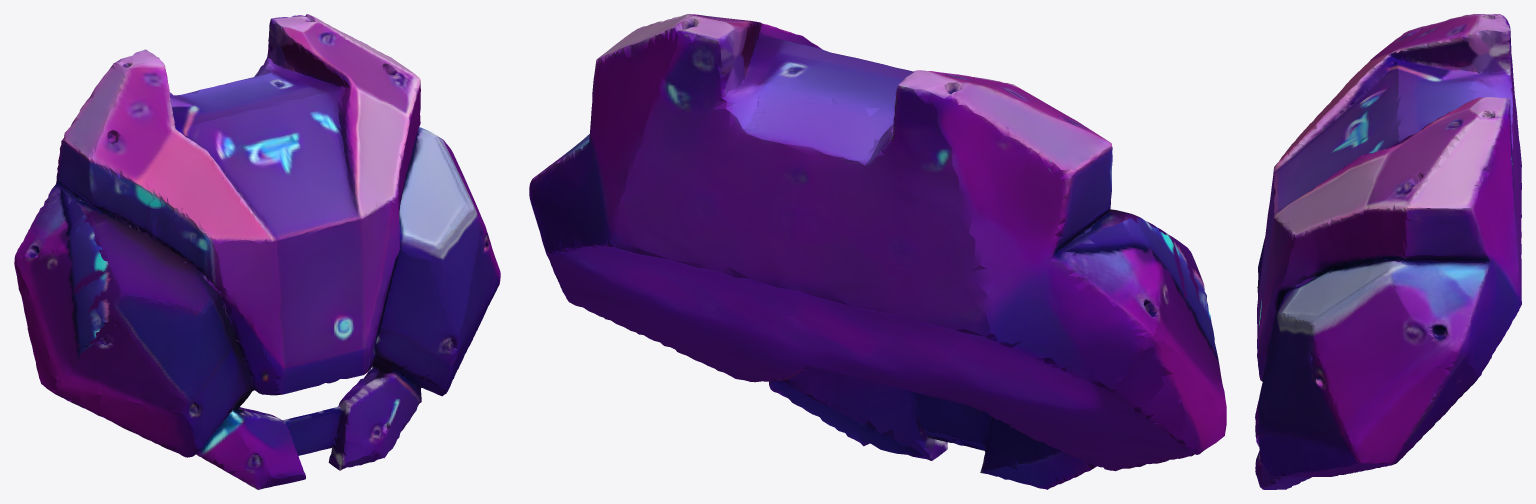
Rendered from supergt_armor.glb.
3 views of the same model, side by side, from view 1: azimuth 30°, elevation 25°; view 2: azimuth 150°, elevation 25°; view 3: azimuth 270°, elevation 25° (orthographic). The views are drawn at different scales.
Parts seen in each view (by area): view 1: Armor_Super_GT; view 2: Armor_Super_GT; view 3: Armor_Super_GT.
Part boxes in pixels (x1,y1,x2,y2): Armor_Super_GT: (14, 14, 500, 489); Armor_Super_GT: (529, 14, 1226, 489); Armor_Super_GT: (1255, 14, 1521, 489).
Bounding box in the file's own units: 1.2 × 0.9207 × 0.5677.
1 material, 1 textured.
